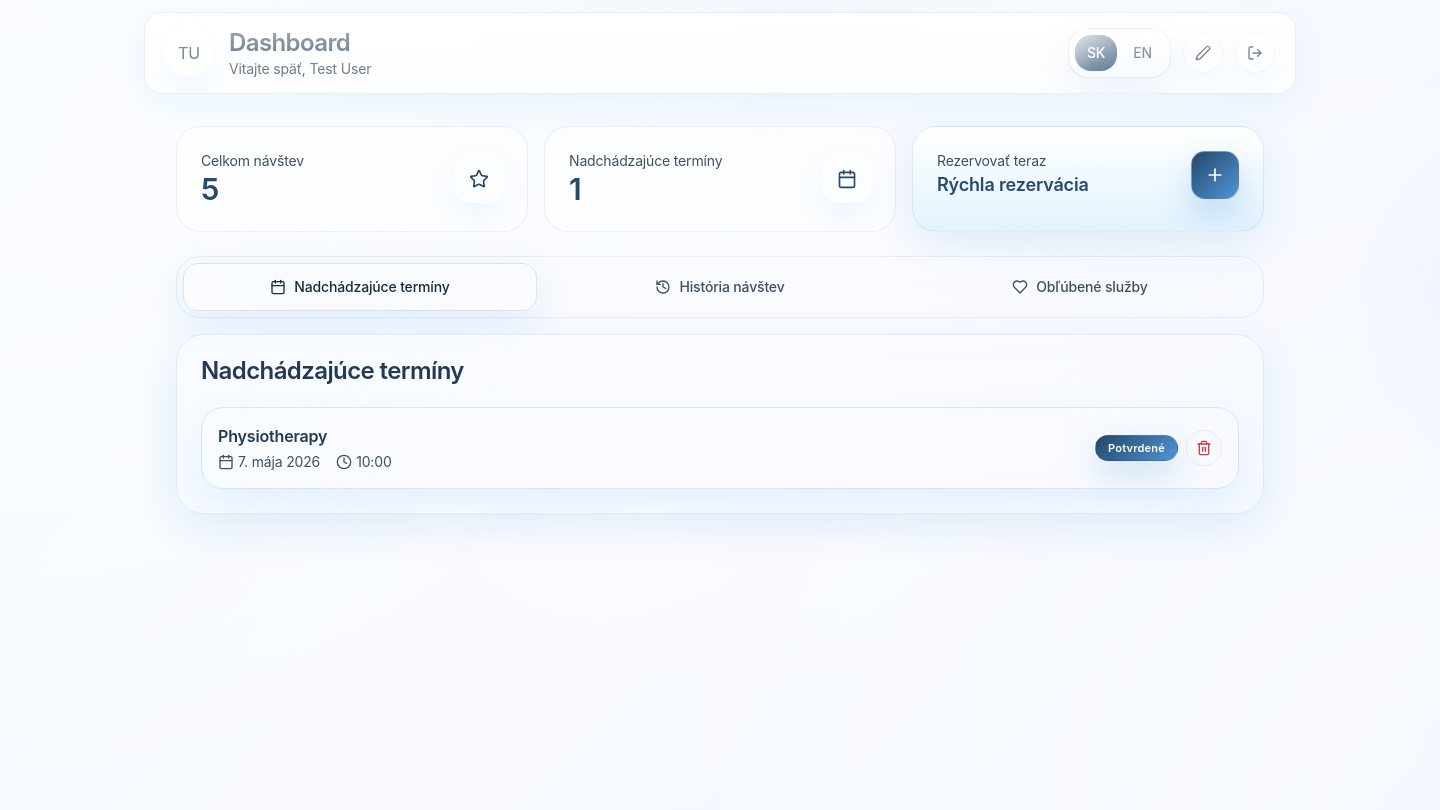
Test: ClientPortal › opens cancel booking dialog and cancels booking
Click the button titled "Zrušiť termín": (1204, 448) [1186,430,1222,466]
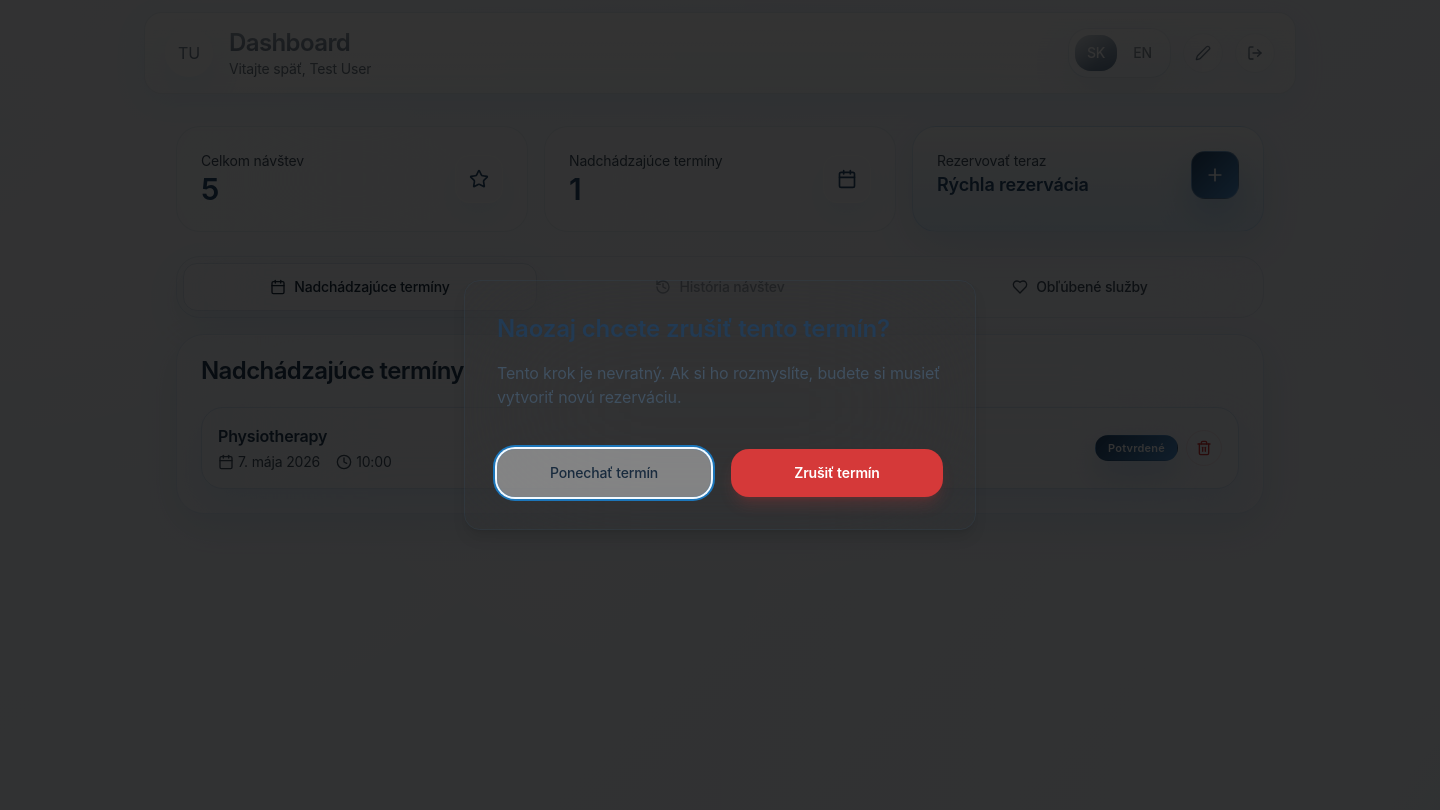
Now the heading "Naozaj chcete zrušiť tento termín?" is shown, box [497,313,943,345]
Click the button "Zrušiť termín": (837, 473) [731,449,943,497]
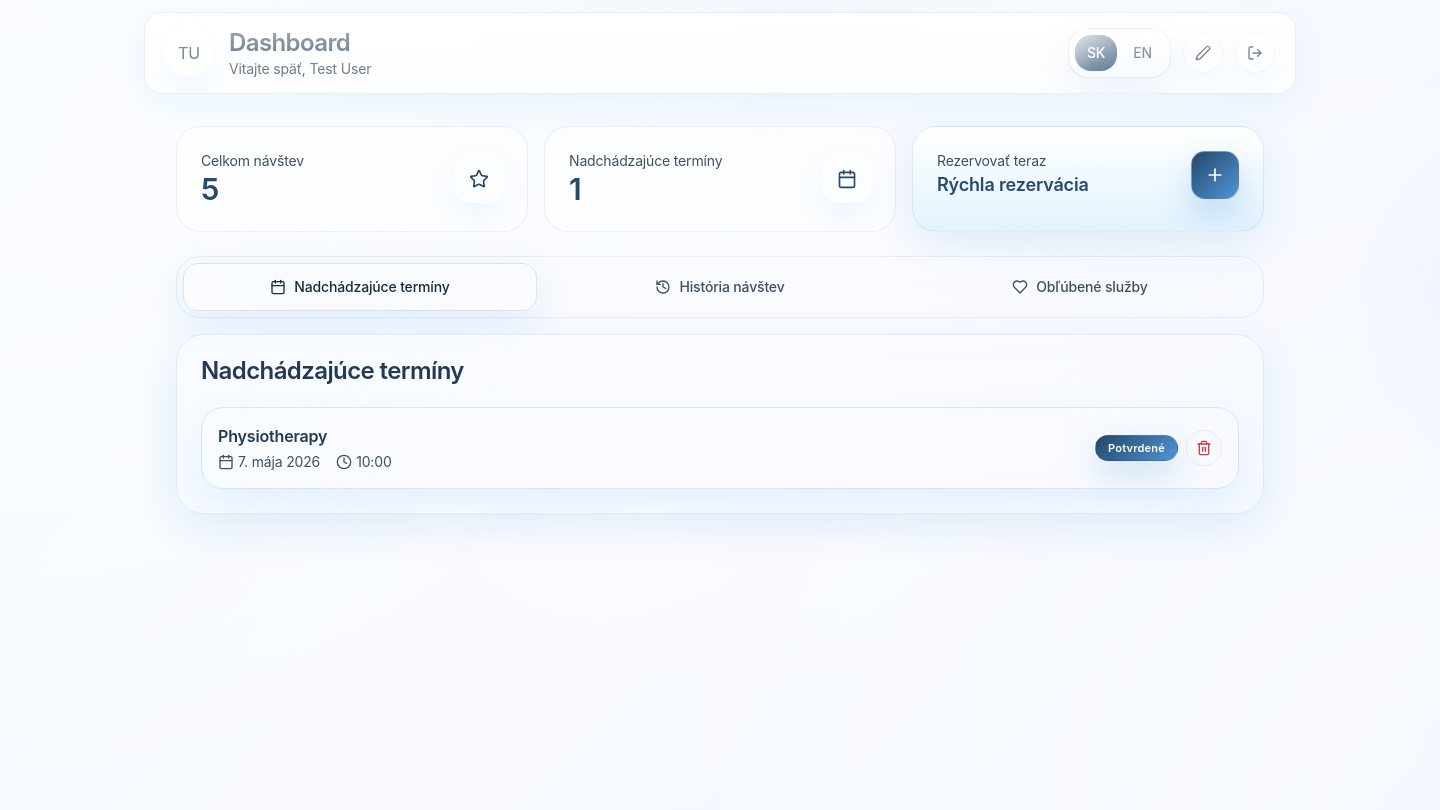
Now the heading "Naozaj chcete zrušiť tento termín" is gone
